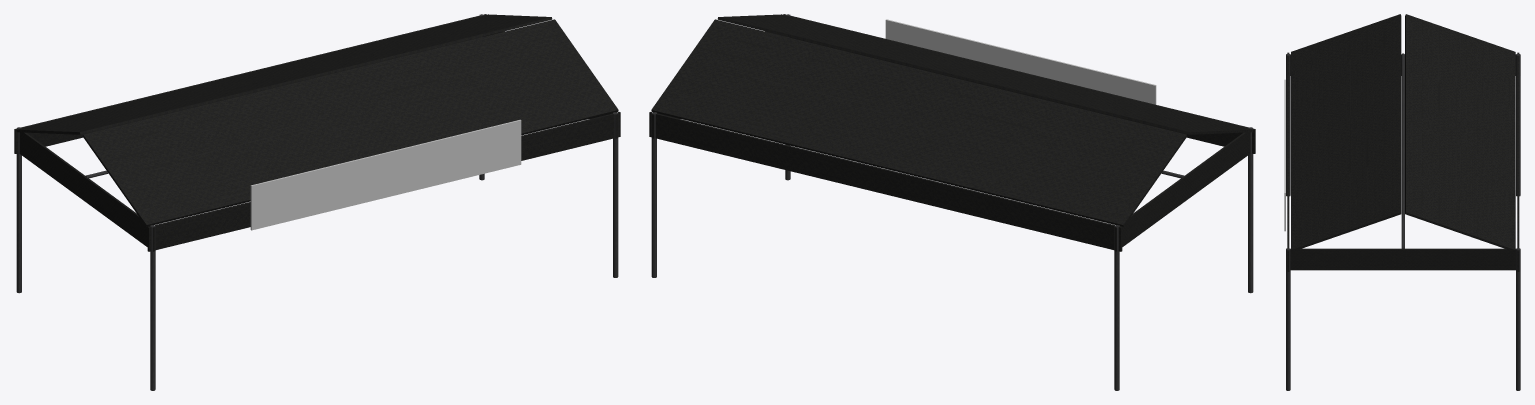
File: tent_black_6x3.dae
3 renders of one model, left to right at view 1: azimuth 30°, elevation 25°; view 2: azimuth 150°, elevation 25°; view 3: azimuth 270°, elevation 25°, orthographic. The views are drawn at different scales.
Visible parts, largest first — view 1: roof_F, tent_logo_banner, roof_B, skirt_0, skirt_2, skirt_1, pole_0, pole_1, pole_3; view 2: roof_B, skirt_1, roof_F, tent_logo_banner, skirt_2, skirt_0, pole_2, pole_3, pole_0; view 3: roof_F, roof_B, skirt_3, beam_x, pole_1, pole_2, skirt_0, skirt_1, pole_0, pole_3, tent_logo_banner.
Part boxes in pixels (x1,y1,x2,y2): roof_F: [82, 19, 618, 226]; tent_logo_banner: [250, 119, 521, 230]; roof_B: [16, 14, 552, 134]; skirt_0: [147, 112, 620, 251]; skirt_2: [19, 132, 155, 251]; skirt_1: [14, 14, 486, 153]; pole_0: [150, 225, 155, 390]; pole_1: [613, 112, 618, 277]; pole_3: [16, 127, 21, 293]; roof_B: [651, 19, 1187, 226]; skirt_1: [649, 112, 1122, 251]; roof_F: [717, 14, 1253, 134]; tent_logo_banner: [885, 19, 1156, 104]; skirt_2: [1114, 132, 1250, 251]; skirt_0: [783, 14, 1255, 153]; pole_2: [651, 112, 656, 277]; pole_3: [1114, 225, 1119, 390]; pole_0: [1248, 127, 1253, 293]; roof_F: [1291, 14, 1401, 251]; roof_B: [1405, 14, 1515, 251]; skirt_3: [1286, 248, 1520, 270]; beam_x: [1401, 53, 1404, 248]; pole_1: [1286, 248, 1290, 390]; pole_2: [1516, 248, 1520, 390]; skirt_0: [1287, 52, 1289, 271]; skirt_1: [1517, 52, 1519, 271]; pole_0: [1286, 53, 1290, 196]; pole_3: [1516, 53, 1520, 196]; tent_logo_banner: [1284, 79, 1285, 231].
Bounding box in the file's own units: 6.12 × 3.08 × 2.59.
3 materials, 3 textured.
